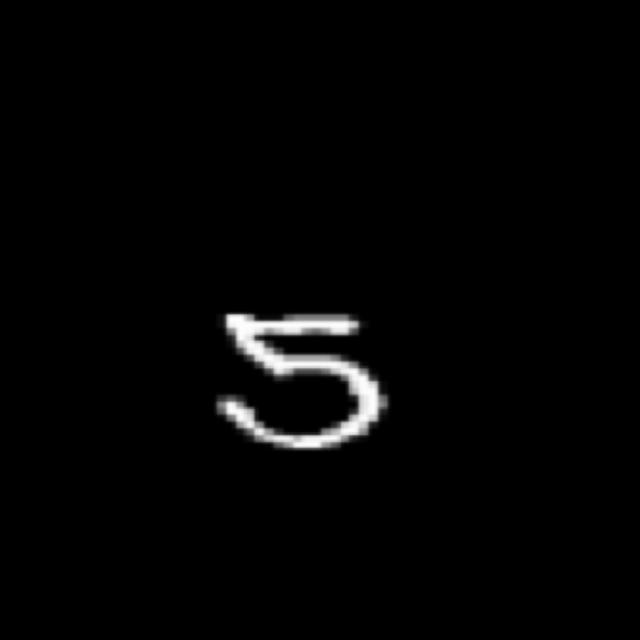five -5-: (207, 301, 401, 457)
